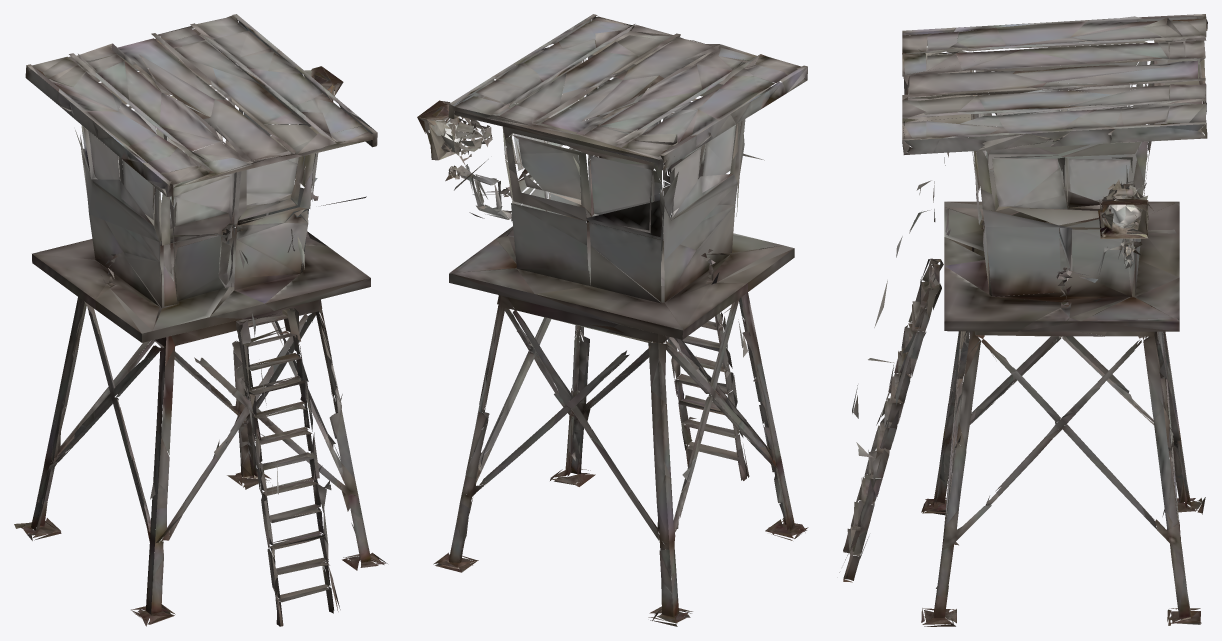
File: watchtower.glb
3 renders of one model, left to right at view 1: azimuth 30°, elevation 25°; view 2: azimuth 150°, elevation 25°; view 3: azimuth 270°, elevation 25°, orthographic. The views are drawn at different scales.
Parts seen in each view (by area): view 1: Mesh_0; view 2: Mesh_0; view 3: Mesh_0.
Boxes of the visible parts, x1,y1,x2,y2 form: Mesh_0: (14, 14, 387, 626); Mesh_0: (417, 14, 808, 626); Mesh_0: (839, 14, 1207, 626).
Size of the model in its own units: 1.21 by 1.92 by 1.29.
1 material, 1 textured.
